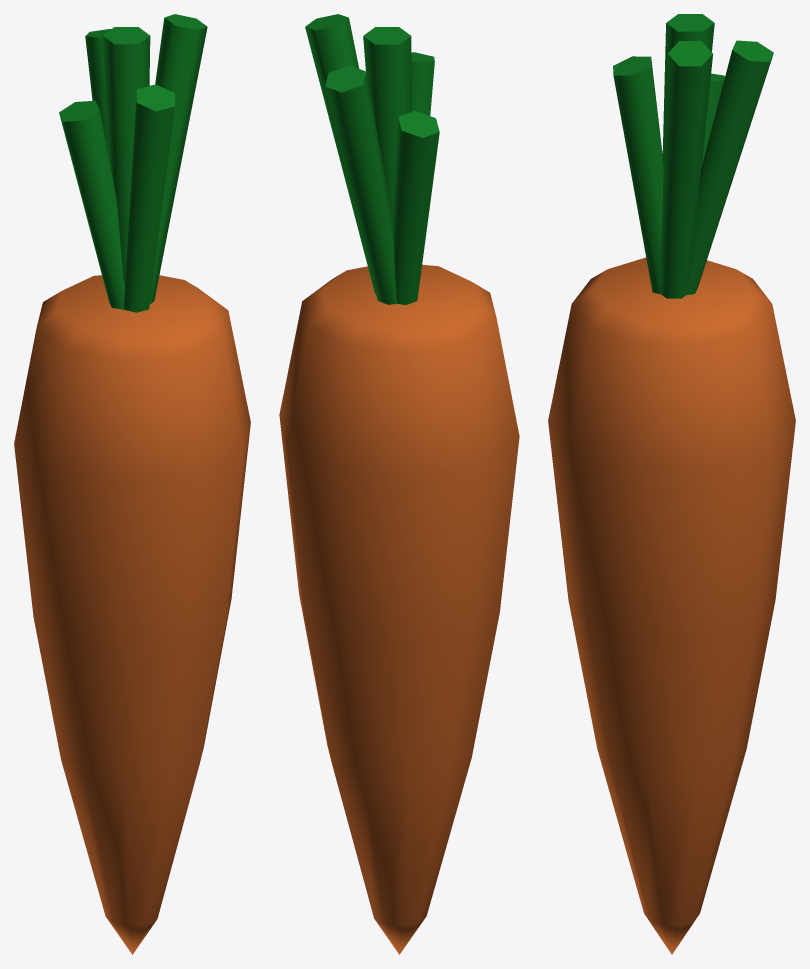
Rendered from Carrot.fbx.
3 views of the same model, side by side, from view 1: azimuth 30°, elevation 25°; view 2: azimuth 150°, elevation 25°; view 3: azimuth 270°, elevation 25° (orthographic). The views are drawn at different scales.
Parts seen in each view (by area): view 1: Carrot; view 2: Carrot; view 3: Carrot.
Part boxes in pixels (x1,y1,x2,y2): Carrot: [14, 14, 250, 954]; Carrot: [279, 14, 519, 954]; Carrot: [548, 14, 795, 954].
Bounding box in the file's own units: 122 × 537 × 129.
